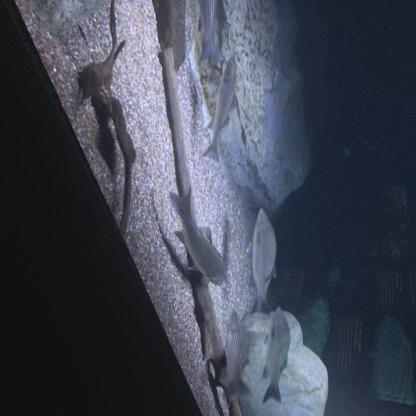fish: (166, 183, 228, 288), (200, 55, 239, 167), (258, 305, 292, 407), (247, 207, 278, 314), (221, 308, 252, 401), (193, 0, 221, 66)
